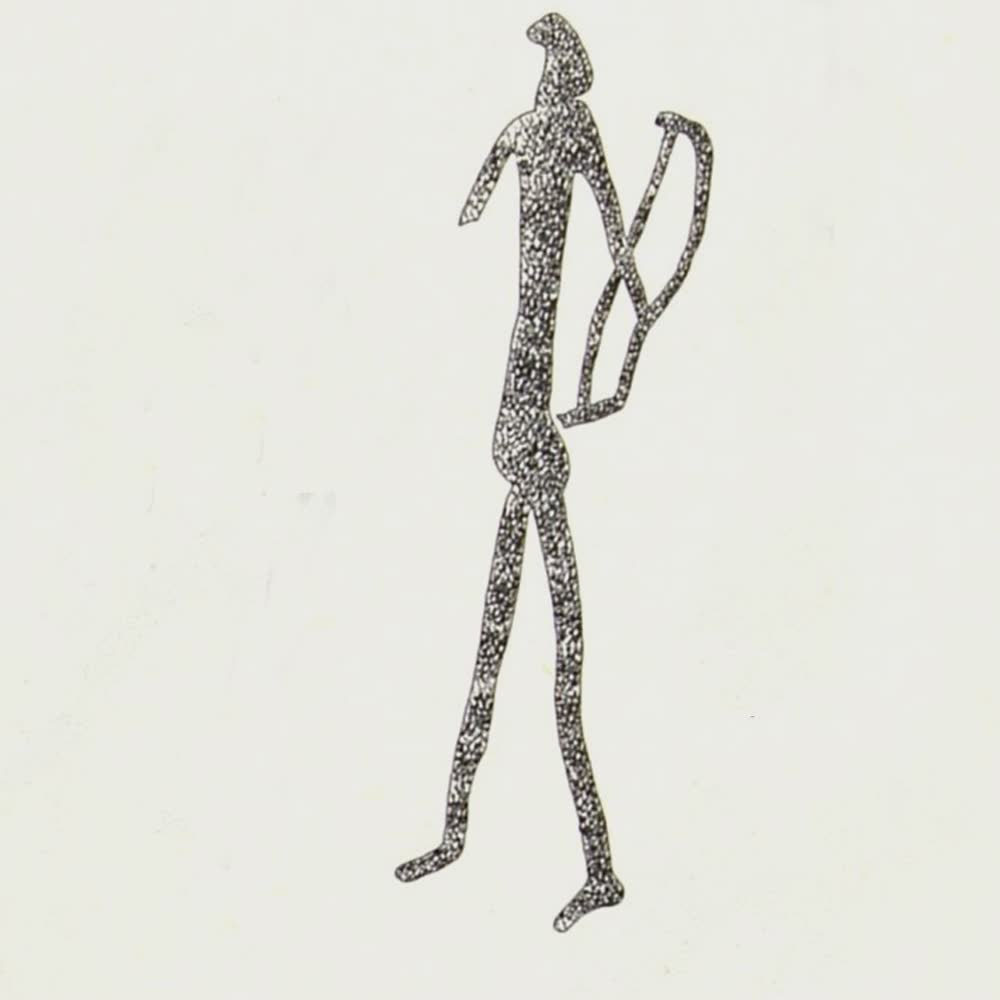man: (388, 8, 719, 939)
